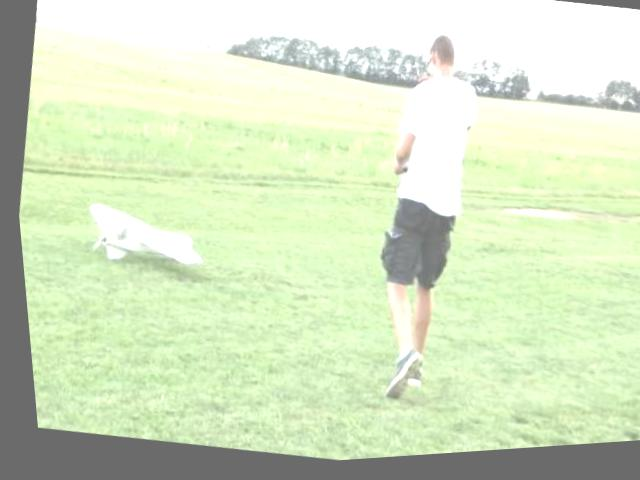uav: (77, 197, 209, 281)
